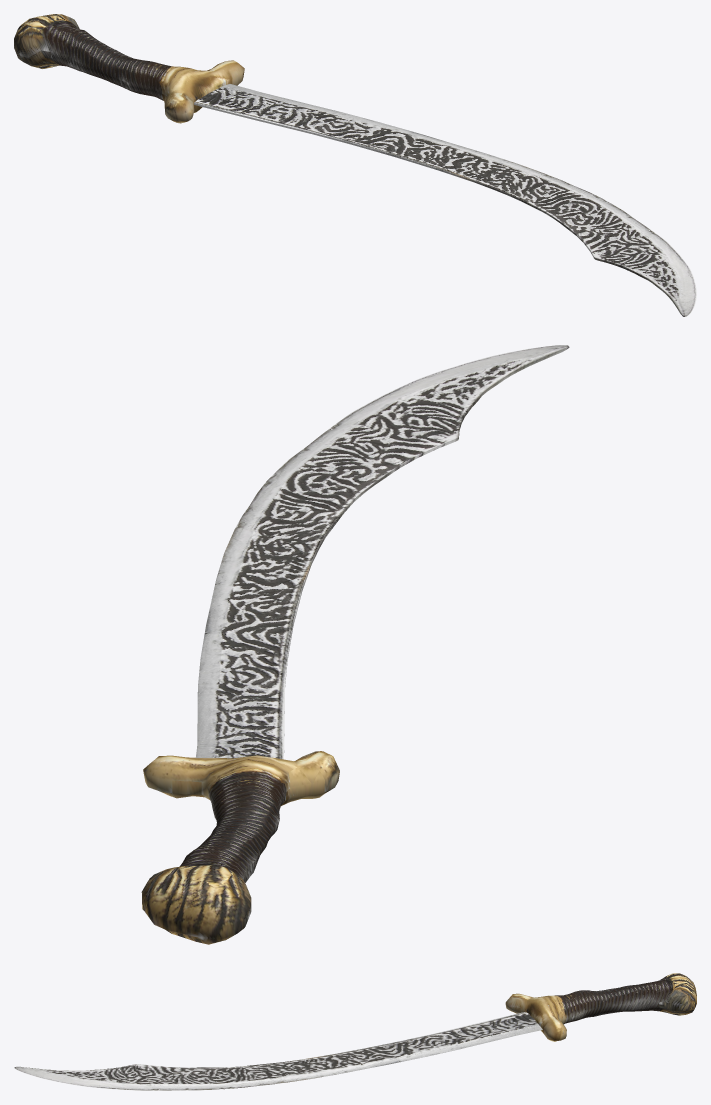
The model's file is Cimitarra.fbx.
3 renders of one model, top to bottom at view 1: azimuth 30°, elevation 25°; view 2: azimuth 150°, elevation 25°; view 3: azimuth 270°, elevation 25°, orthographic. The views are drawn at different scales.
Visible parts, largest first — view 1: Plane, Mango; view 2: Plane, Mango; view 3: Plane, Mango.
Boxes of the visible parts, <box> form: Plane: <box>194,84,696,316</box>; Mango: <box>14,14,244,123</box>; Plane: <box>196,345,569,759</box>; Mango: <box>141,751,339,944</box>; Plane: <box>14,1012,542,1090</box>; Mango: <box>505,973,696,1041</box>.
Bounding box in the file's own units: 428 × 64.87 × 1167.
2 materials, 2 textured.
